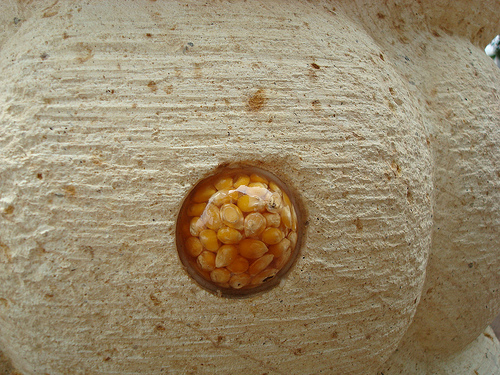corn: (182, 169, 304, 288)
